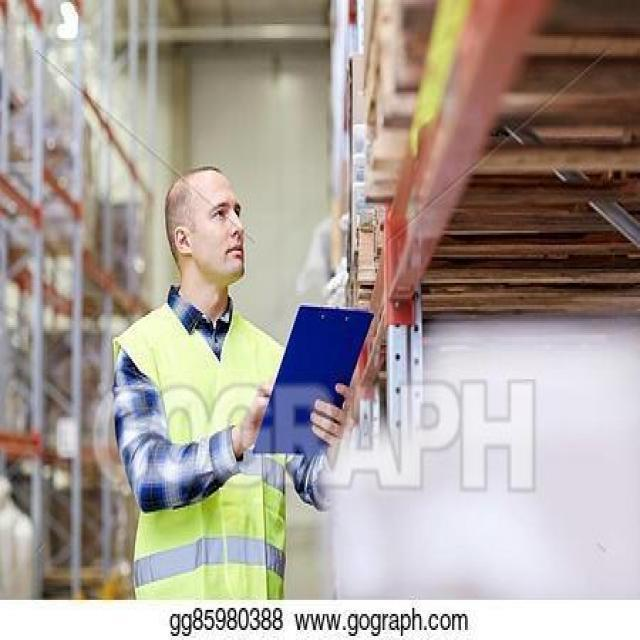no-helmet: (168, 166, 247, 239)
vest: (114, 304, 294, 598)
